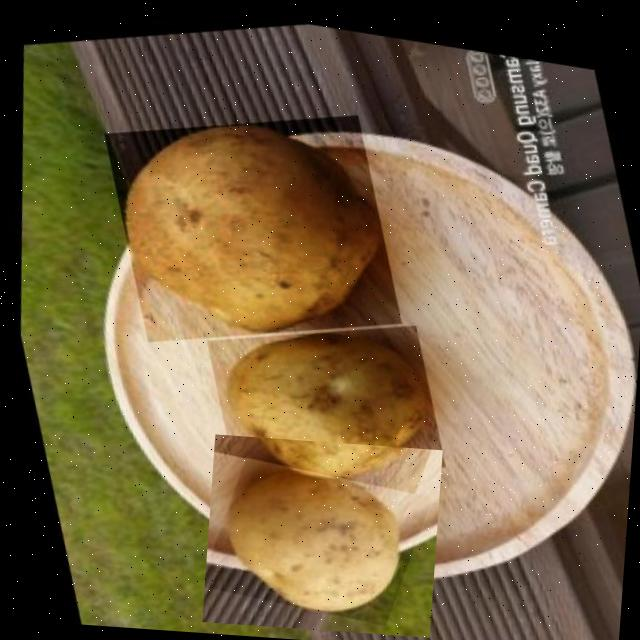Potato: (82, 72, 415, 374), (189, 288, 452, 507), (200, 434, 442, 637)
